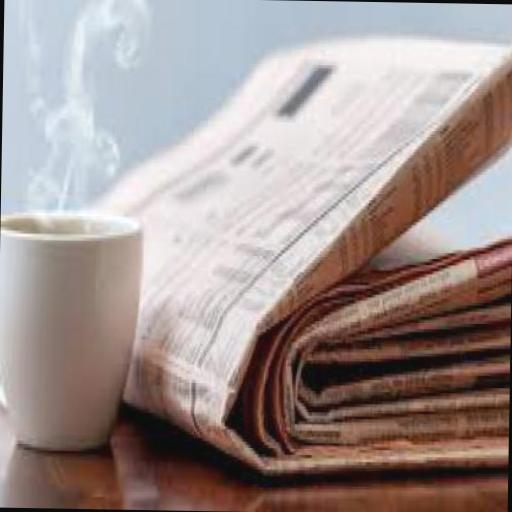paper: (84, 33, 512, 480), (252, 226, 512, 449), (142, 40, 324, 272), (280, 250, 510, 432), (304, 339, 508, 401)
